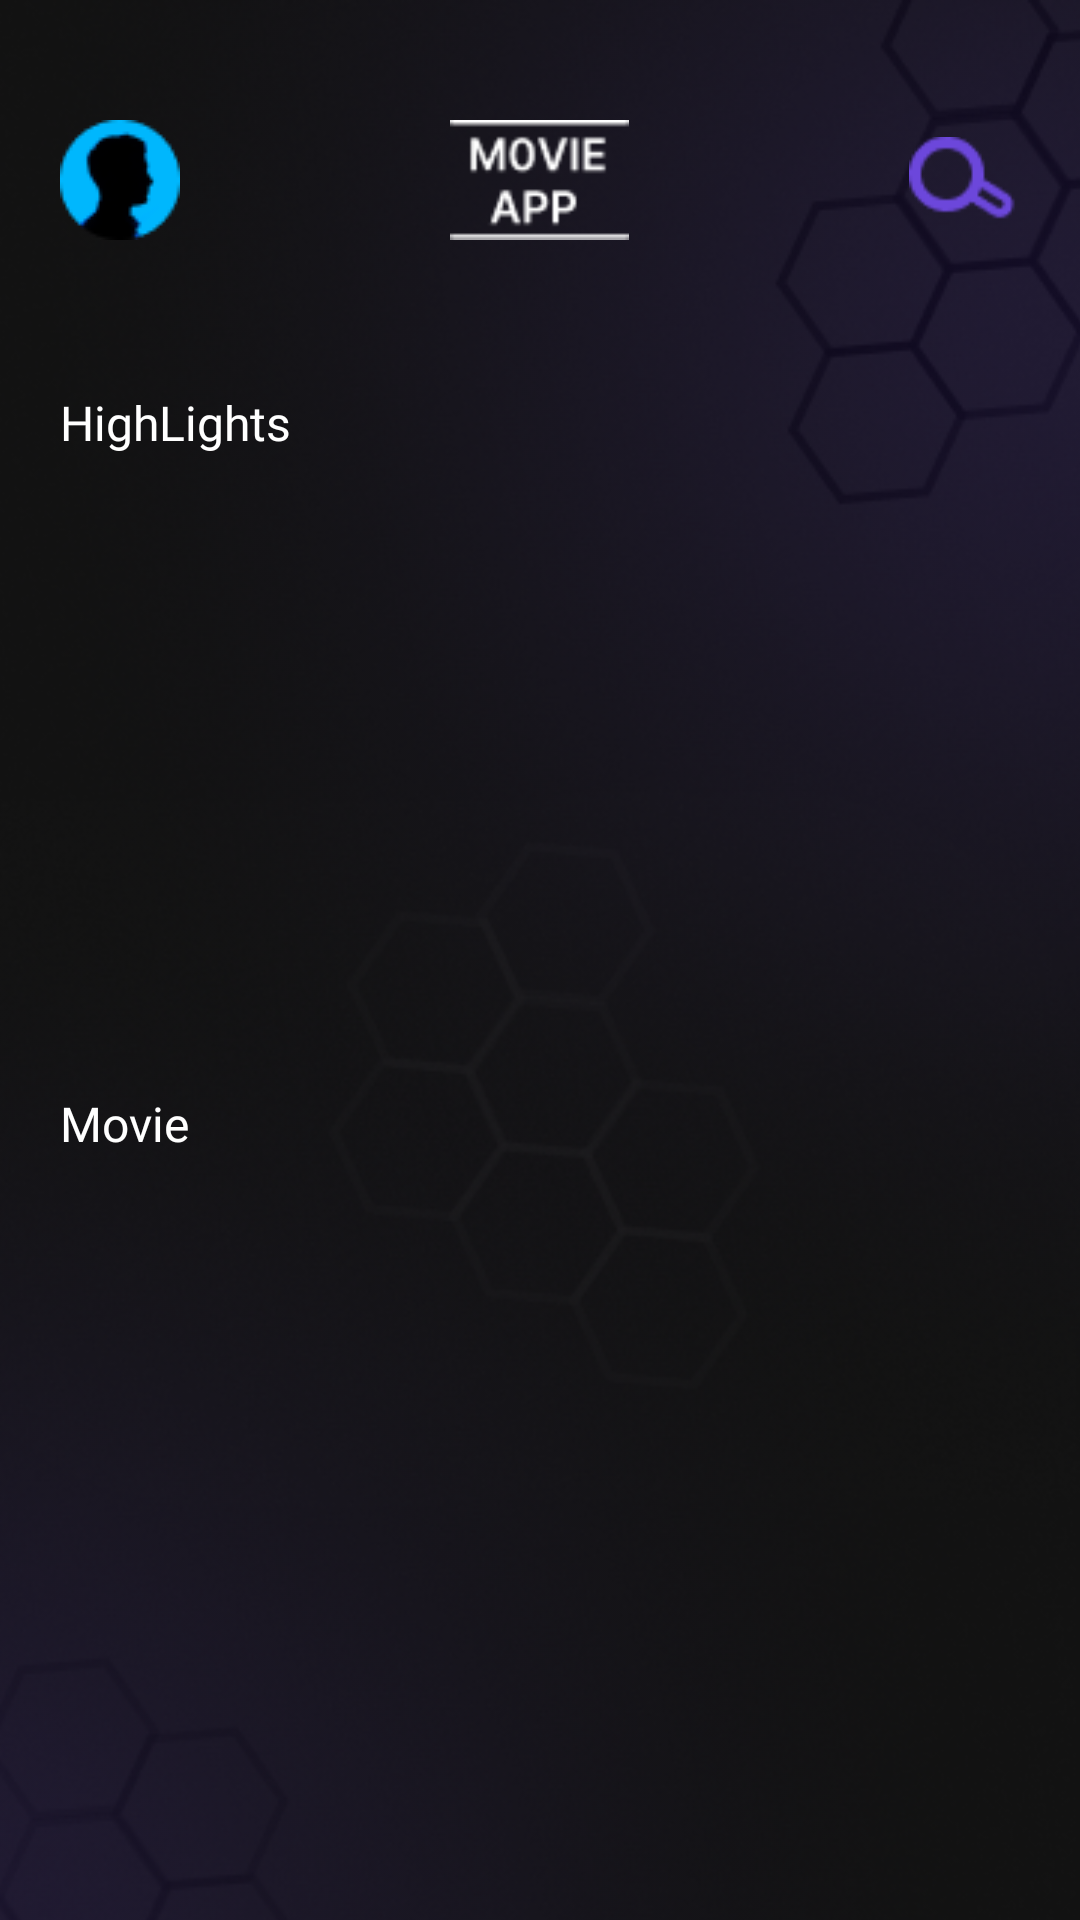

Screen size 1080 x 1920. Icon name, then its center in pixels as point (x, y):
search: point (962, 178)
